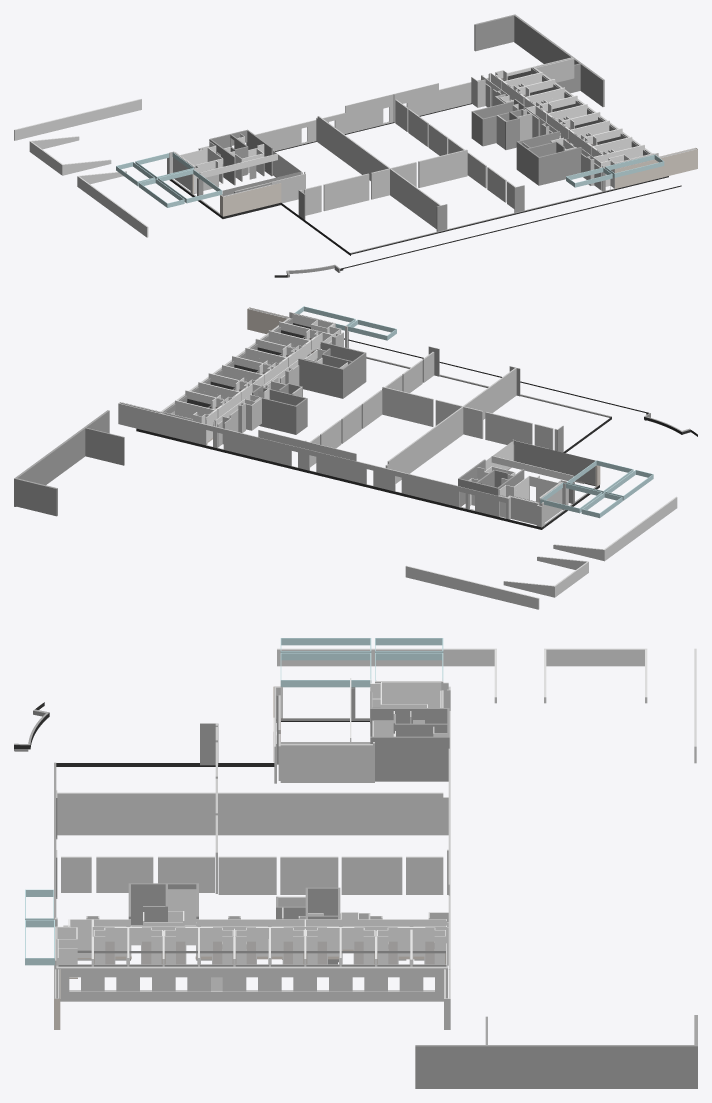
Rendered from model-part.gltf_walls_Piso 0.gltf.
3 views of the same model, one above another, from view 1: azimuth 30°, elevation 25°; view 2: azimuth 150°, elevation 25°; view 3: azimuth 270°, elevation 25° (orthographic). The views are drawn at different scales.
Bounding box in the file's own units: 77.72 × 7.96 × 58.15.
